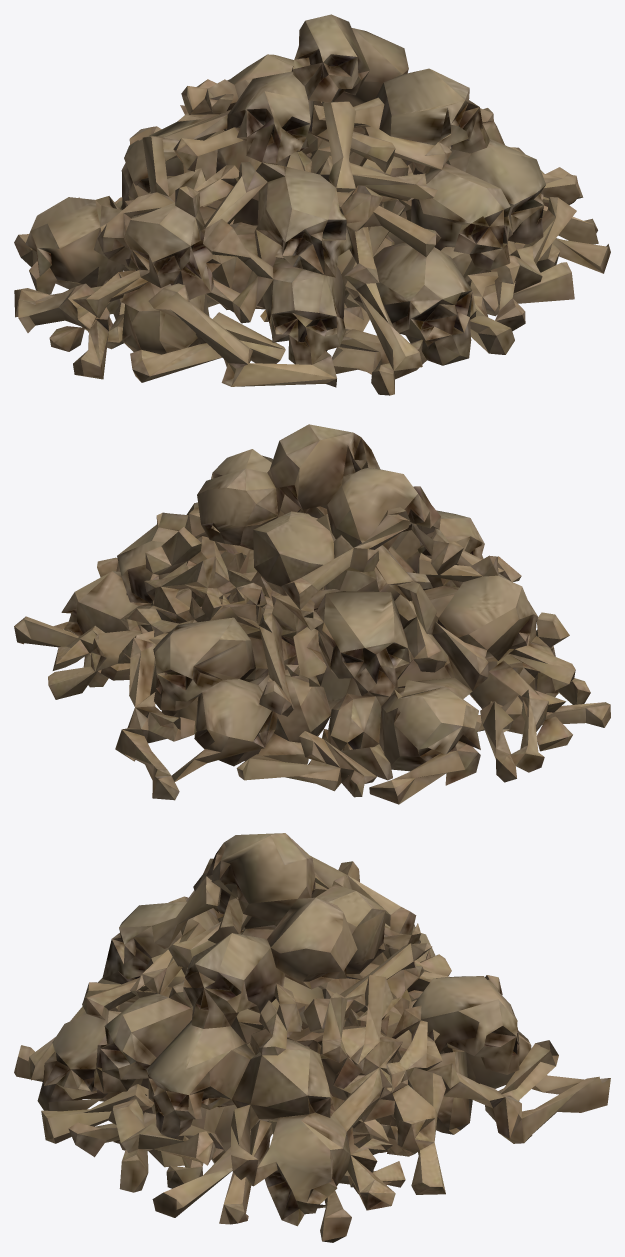
File: decor-bones.glb
The picture shows the model from 3 angles, top to bottom: view 1: azimuth 30°, elevation 25°; view 2: azimuth 150°, elevation 25°; view 3: azimuth 270°, elevation 25°; orthographic projection. The views are drawn at different scales.
Size of the model in its own units: 1.89 by 0.8889 by 1.73.
1 material, 1 textured.
